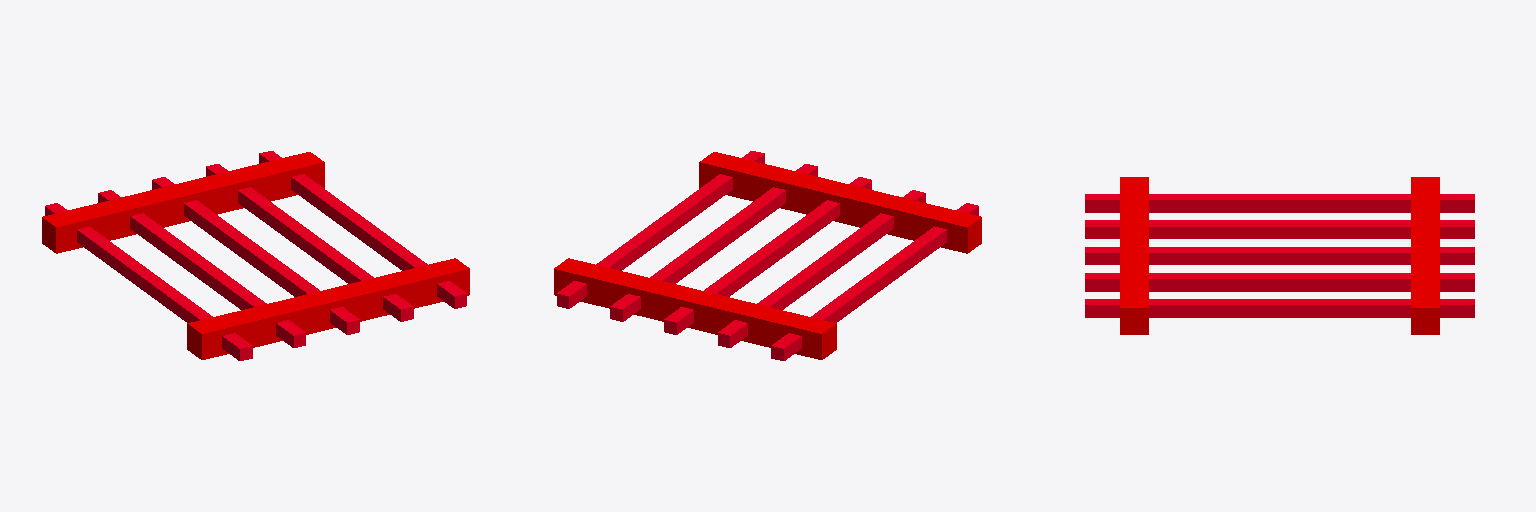
File: shadeRoof.obj
The picture shows the model from 3 angles: view 1: azimuth 30°, elevation 25°; view 2: azimuth 150°, elevation 25°; view 3: azimuth 270°, elevation 25°; orthographic projection.
Visible parts, largest first — view 1: Cube.008_Cube.073; view 2: Cube.008_Cube.073; view 3: Cube.008_Cube.073.
Boxes of the visible parts, x1,y1,x2,y2 form: Cube.008_Cube.073: [42, 151, 469, 360]; Cube.008_Cube.073: [554, 151, 981, 360]; Cube.008_Cube.073: [1085, 177, 1474, 334].
Size of the model in its own units: 1.06 by 0.1 by 1.34.